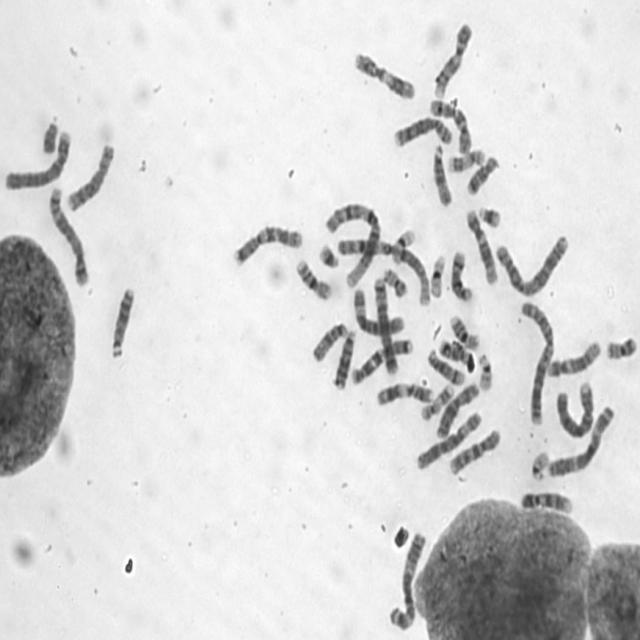A1: (334, 233, 432, 308), (321, 198, 384, 288)
A2: (493, 230, 571, 298), (518, 297, 555, 426)
A3: (546, 402, 617, 478), (386, 527, 428, 630)
B4: (2, 126, 73, 193), (553, 376, 596, 442)
B5: (46, 182, 90, 288), (371, 273, 398, 375)
C10: (446, 425, 502, 477), (428, 95, 472, 156)
C11: (351, 49, 417, 103), (374, 378, 435, 408)
C12: (463, 205, 499, 286), (545, 337, 603, 379)
C6: (413, 408, 483, 472), (350, 285, 407, 339)
C7: (231, 221, 304, 269), (348, 334, 415, 386)
C8: (64, 139, 116, 214), (391, 113, 455, 150)
C9: (430, 19, 474, 99), (519, 487, 574, 517)
D13: (108, 282, 136, 360), (330, 326, 358, 390)
D14: (425, 345, 466, 387), (448, 248, 474, 303)
D15: (310, 318, 350, 364), (431, 140, 454, 209)
E16: (293, 255, 333, 302), (448, 312, 480, 350)
E17: (418, 381, 456, 422), (444, 146, 486, 175)
E18: (464, 153, 499, 196), (436, 335, 475, 372)
F19: (389, 225, 416, 266), (427, 251, 447, 300)
F20: (604, 332, 638, 362), (381, 263, 409, 299)
G21: (316, 240, 341, 270), (476, 202, 502, 230)
G22: (528, 447, 550, 482), (476, 351, 494, 392)
X: (434, 379, 481, 441)
Y: (40, 116, 60, 155)
